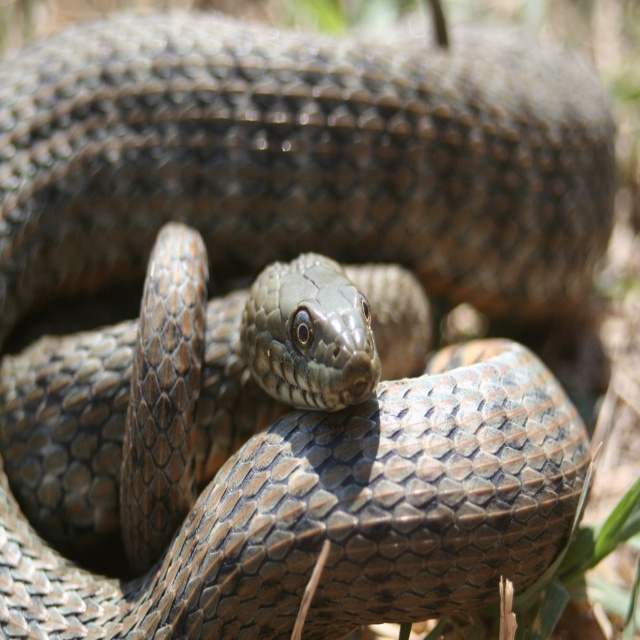Snake: (0, 6, 616, 640)
